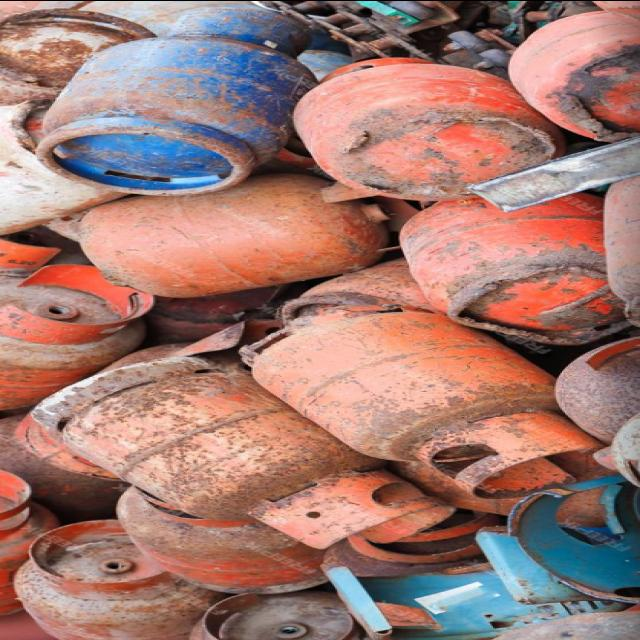cylinder: (29, 353, 458, 549), (238, 306, 601, 497), (35, 2, 313, 196), (77, 173, 440, 297), (14, 519, 230, 639)
